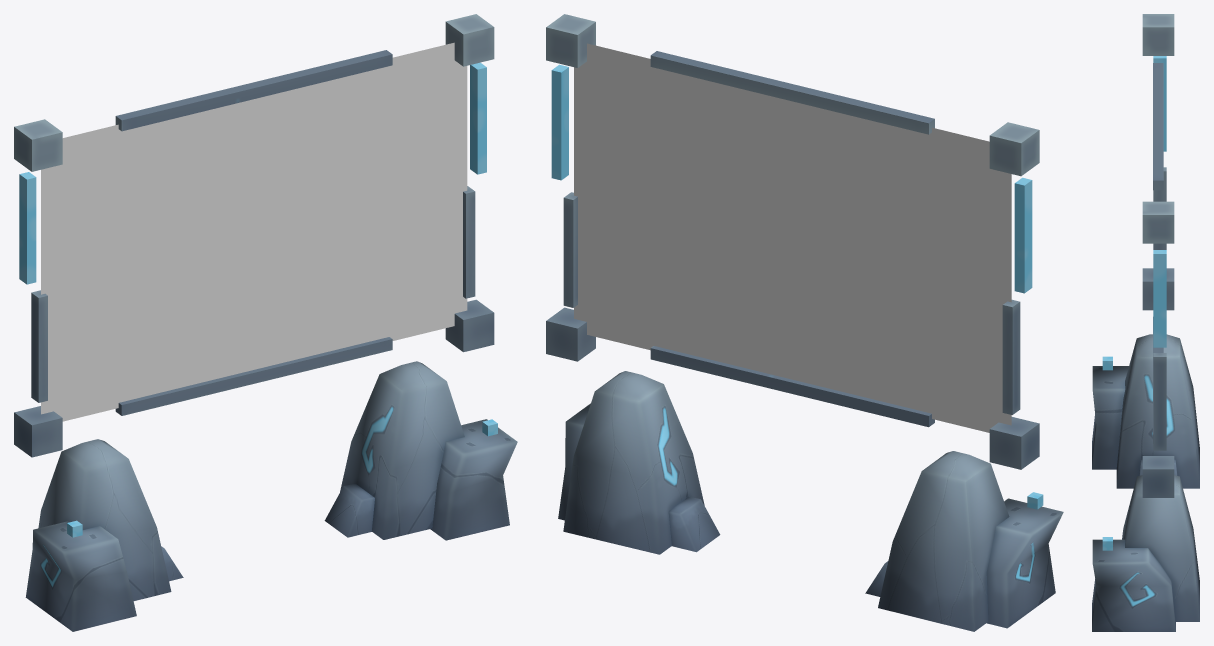
3 renders of one model, left to right at view 1: azimuth 30°, elevation 25°; view 2: azimuth 150°, elevation 25°; view 3: azimuth 270°, elevation 25°, orthographic. The views are drawn at different scales.
Parts seen in each view (by area): view 1: pantalla, tv_medieval; view 2: pantalla, tv_medieval; view 3: tv_medieval.
Boxes of the visible parts, x1,y1,x2,y2 form: pantalla: (41,42,467,421); tv_medieval: (14,14,517,631); pantalla: (574,43,1011,432); tv_medieval: (546,14,1063,631); tv_medieval: (1092,14,1199,631).
Bounding box in the file's own units: 1207 × 1184 × 274.
Materials: 2 (1 with a texture image).
